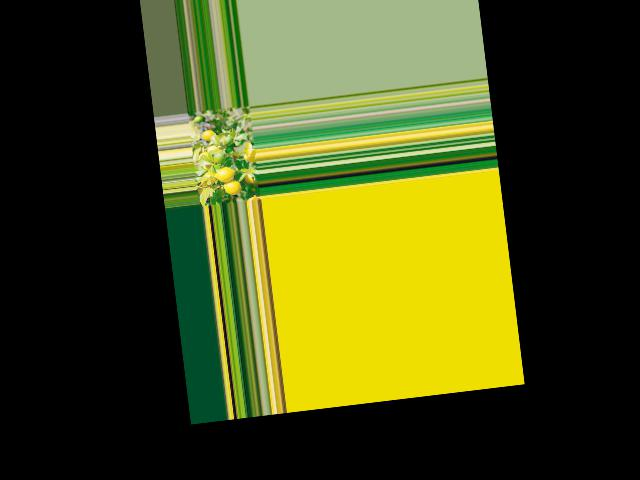lemon: (200, 125, 219, 141)
